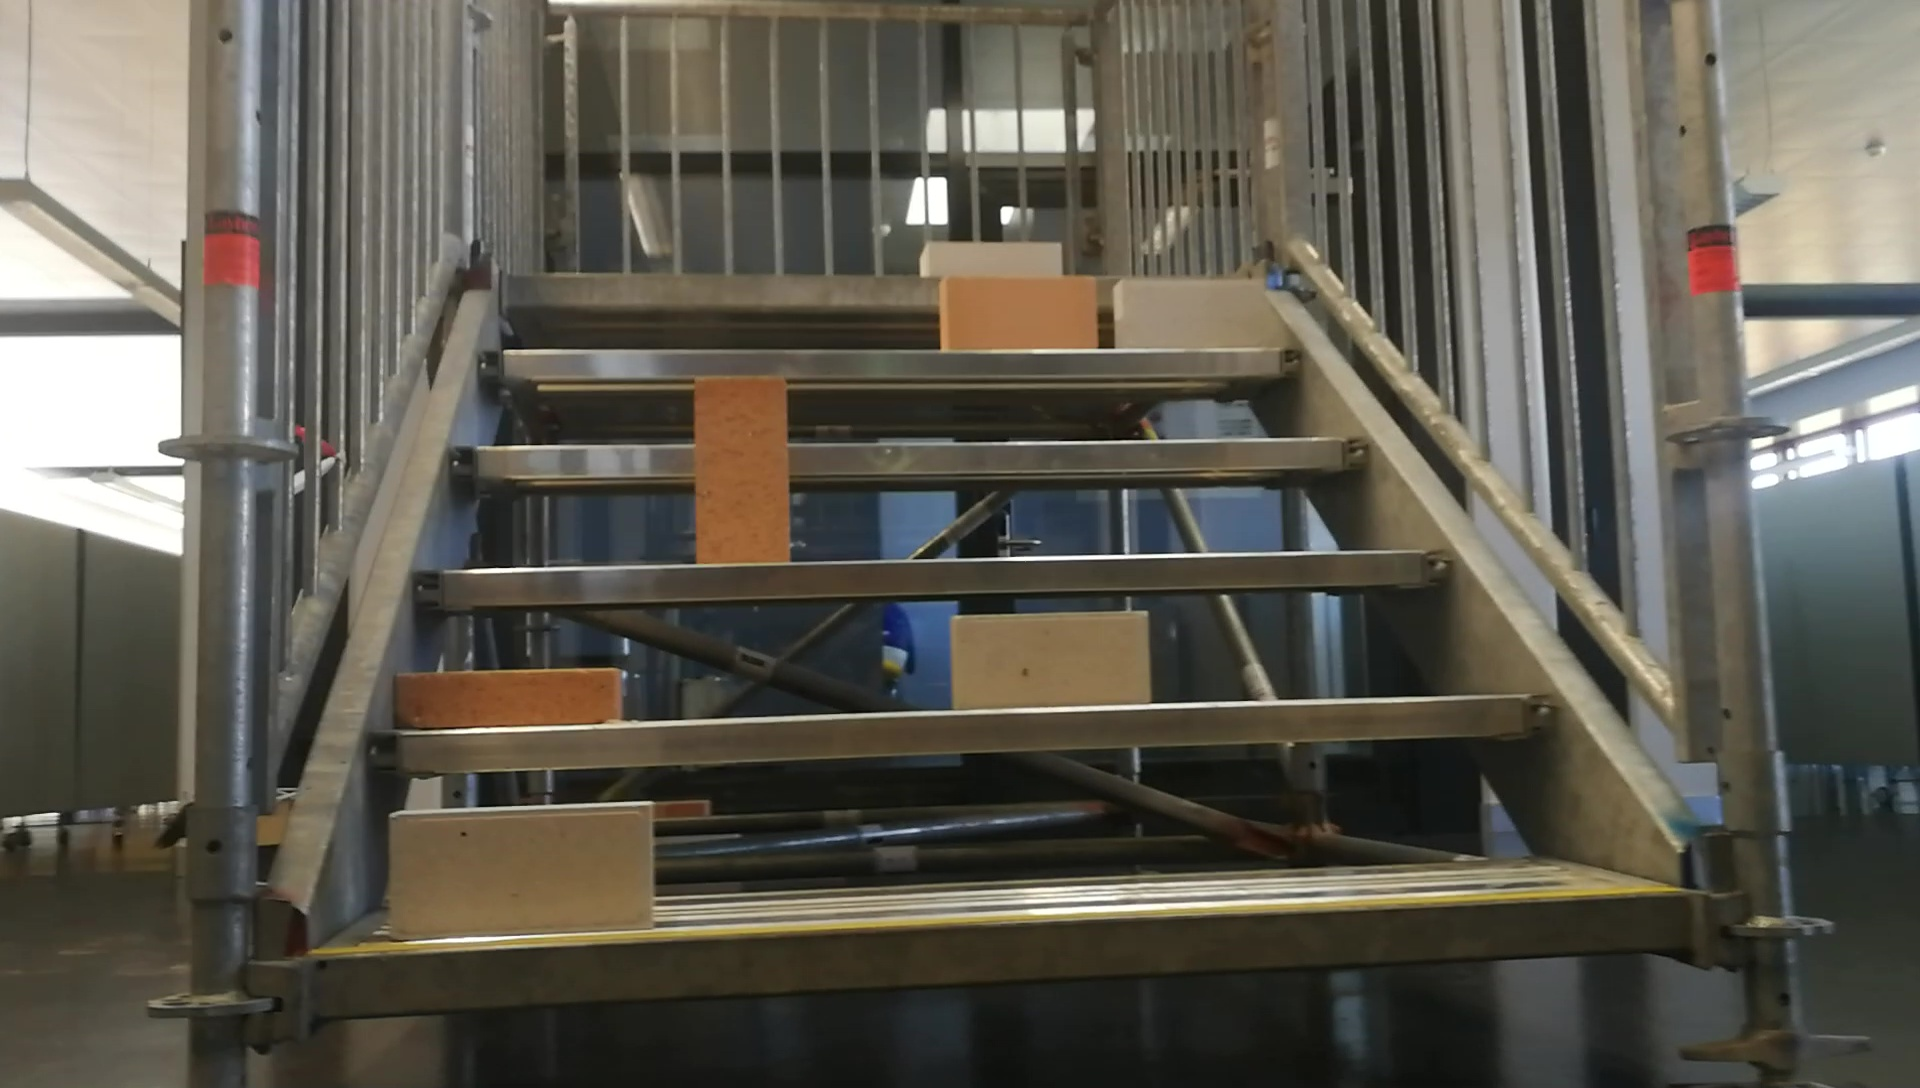brick: (390, 801, 647, 940), (952, 615, 1145, 706), (698, 375, 787, 568), (400, 669, 617, 728), (938, 276, 1092, 352), (1114, 281, 1261, 346), (923, 243, 1062, 274)
edge: (324, 888, 1691, 1015), (363, 694, 1560, 768), (411, 549, 1457, 601), (448, 437, 1375, 480), (473, 351, 1302, 380)
steps: (313, 232, 1712, 1035)
